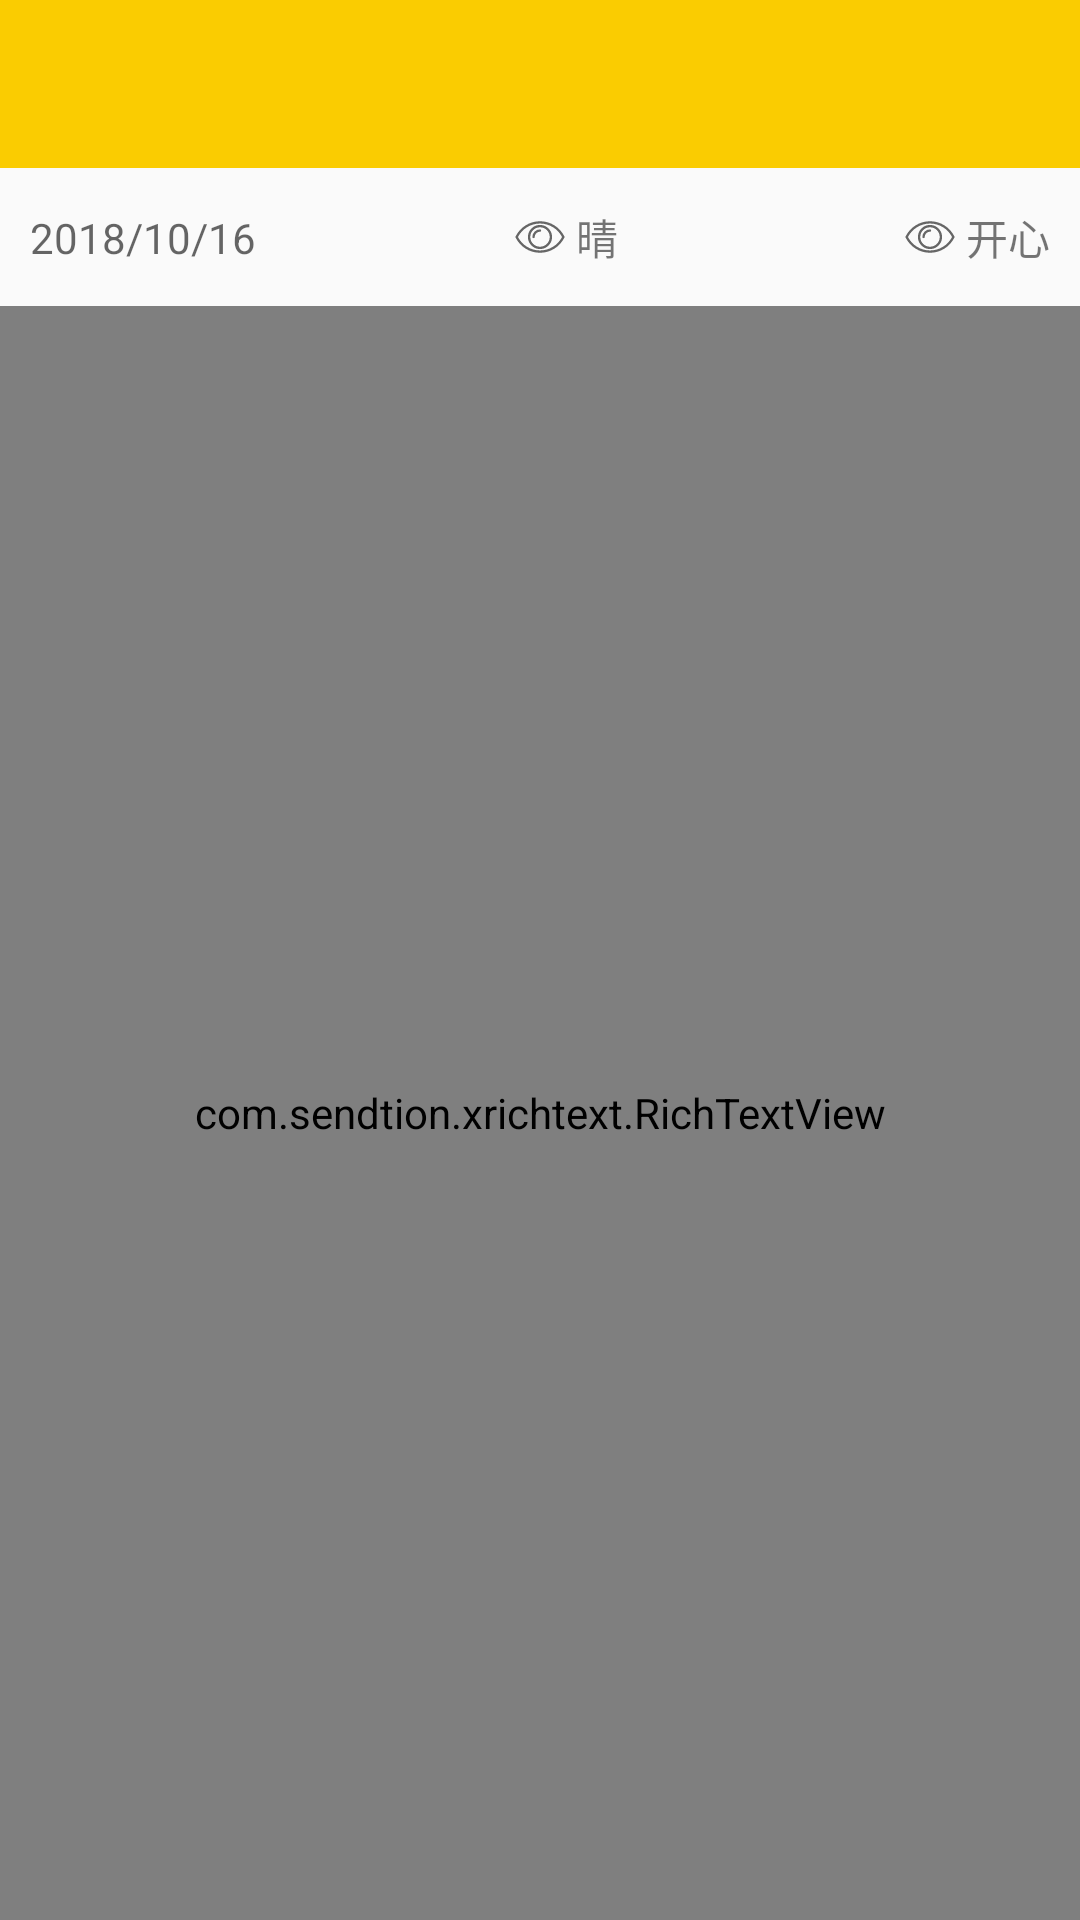

Locate icon controls on the screen. Image size 1080 × 1920, boxes as (x1, y1, x2, y2).
eye: (515, 221, 565, 253), (905, 221, 955, 253)
